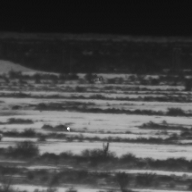Target: (66, 127, 71, 132)
